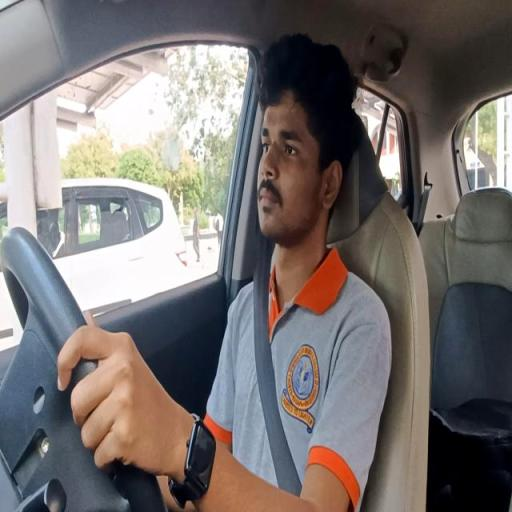Normal: (2, 29, 392, 512)
